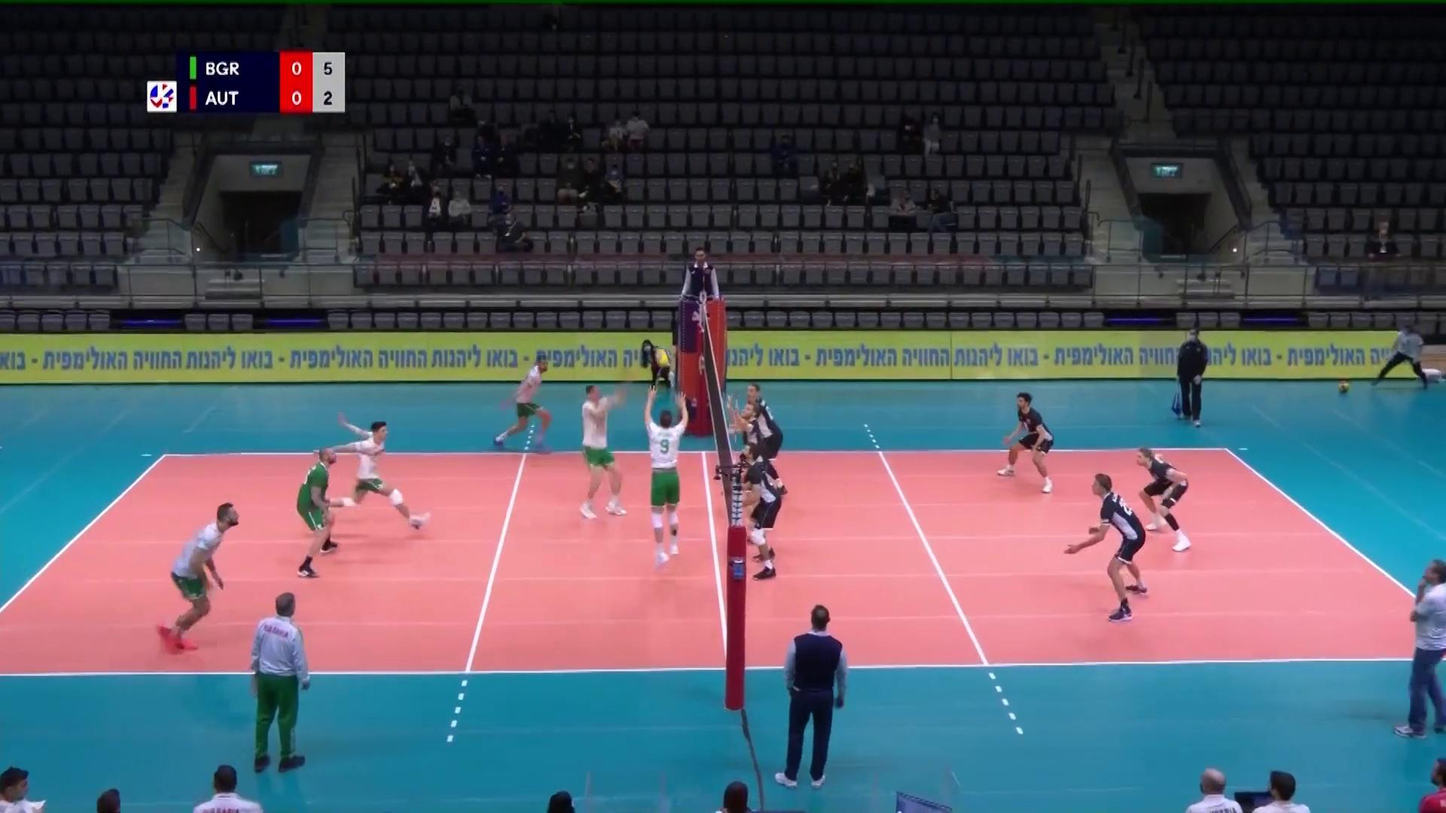ball: (655, 347, 673, 368)
